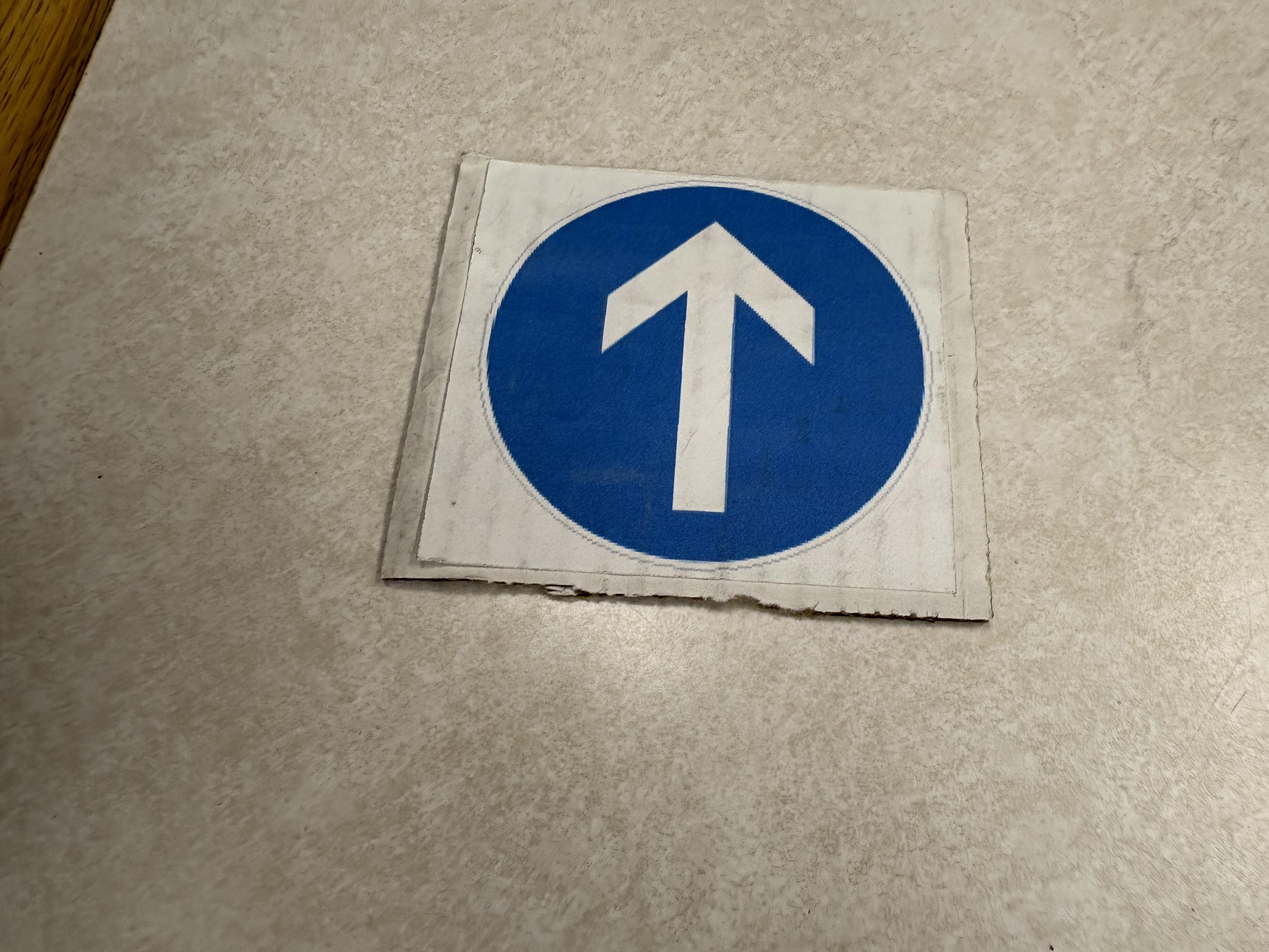Proceed Forward: (376, 158, 998, 621)
